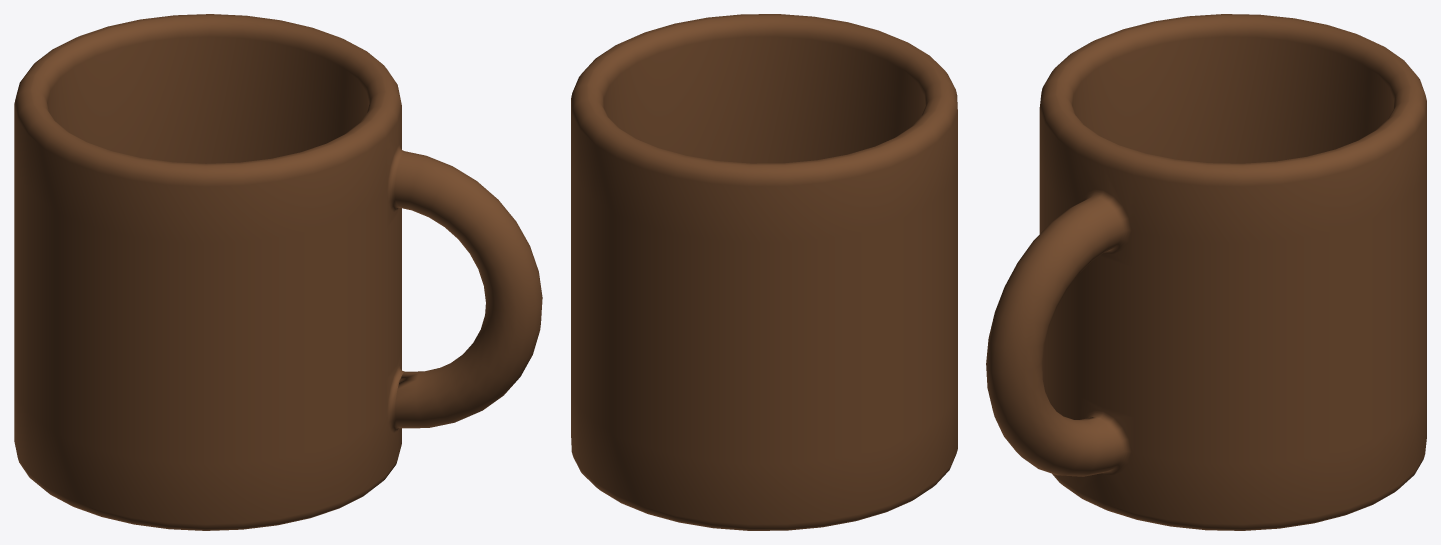
Rendered from Cup.fbx.
3 renders of one model, left to right at view 1: azimuth 30°, elevation 25°; view 2: azimuth 150°, elevation 25°; view 3: azimuth 270°, elevation 25°, orthographic.
Visible parts, largest first — view 1: Cup; view 2: Cup; view 3: Cup.
Part boxes in pixels (left/top/right/bottom): Cup: left=14, top=14, right=542, bottom=530; Cup: left=571, top=14, right=957, bottom=530; Cup: left=986, top=14, right=1426, bottom=530.
Bounding box in the file's own units: 0.1568 × 0.1397 × 0.1541.
